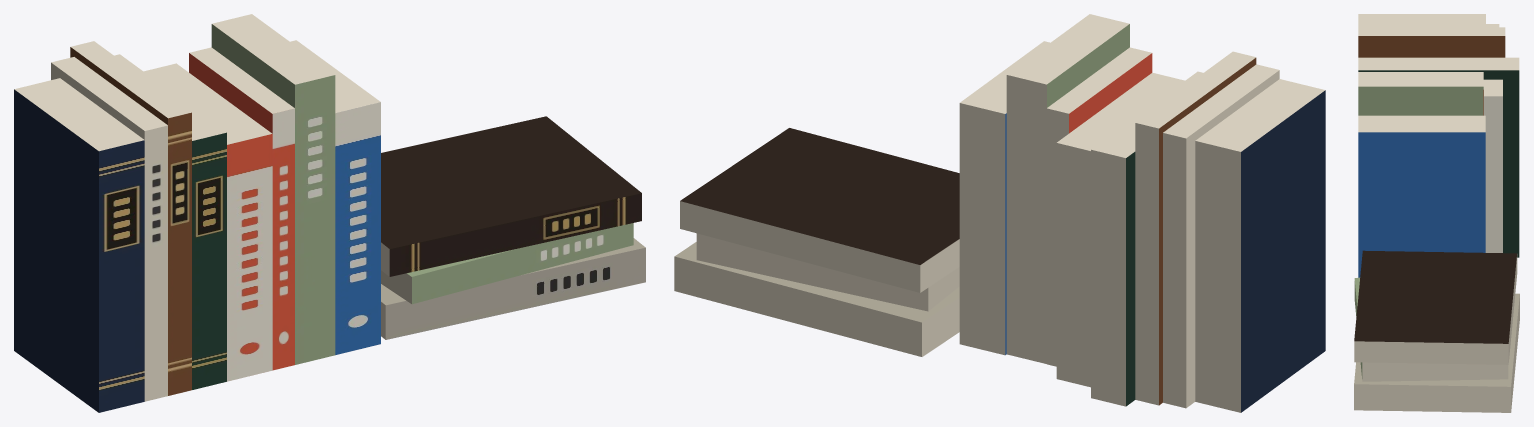
Rendered from obj-books-mixed-row.glb.
The picture shows the model from 3 angles, left to right: view 1: azimuth 30°, elevation 25°; view 2: azimuth 150°, elevation 25°; view 3: azimuth 270°, elevation 25°; orthographic projection. The views are drawn at different scales.
Visible parts, largest first — view 1: obj-books-mixed-row; view 2: obj-books-mixed-row; view 3: obj-books-mixed-row.
Boxes of the visible parts, x1,y1,x2,y2 form: obj-books-mixed-row: [14, 14, 645, 412]; obj-books-mixed-row: [674, 14, 1325, 412]; obj-books-mixed-row: [1354, 14, 1519, 412].
Bounding box in the file's own units: 0.4936 × 0.2399 × 0.1711.
1 material, 1 textured.
